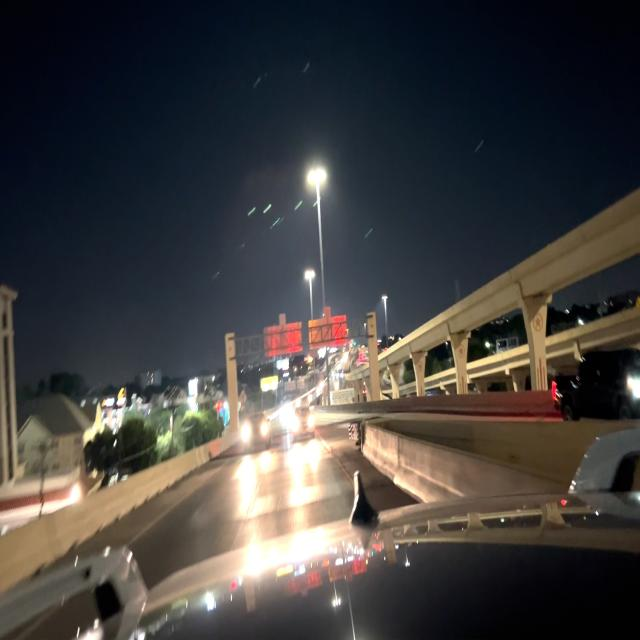back-of-sign: (263, 314, 303, 360), (309, 305, 349, 350)
